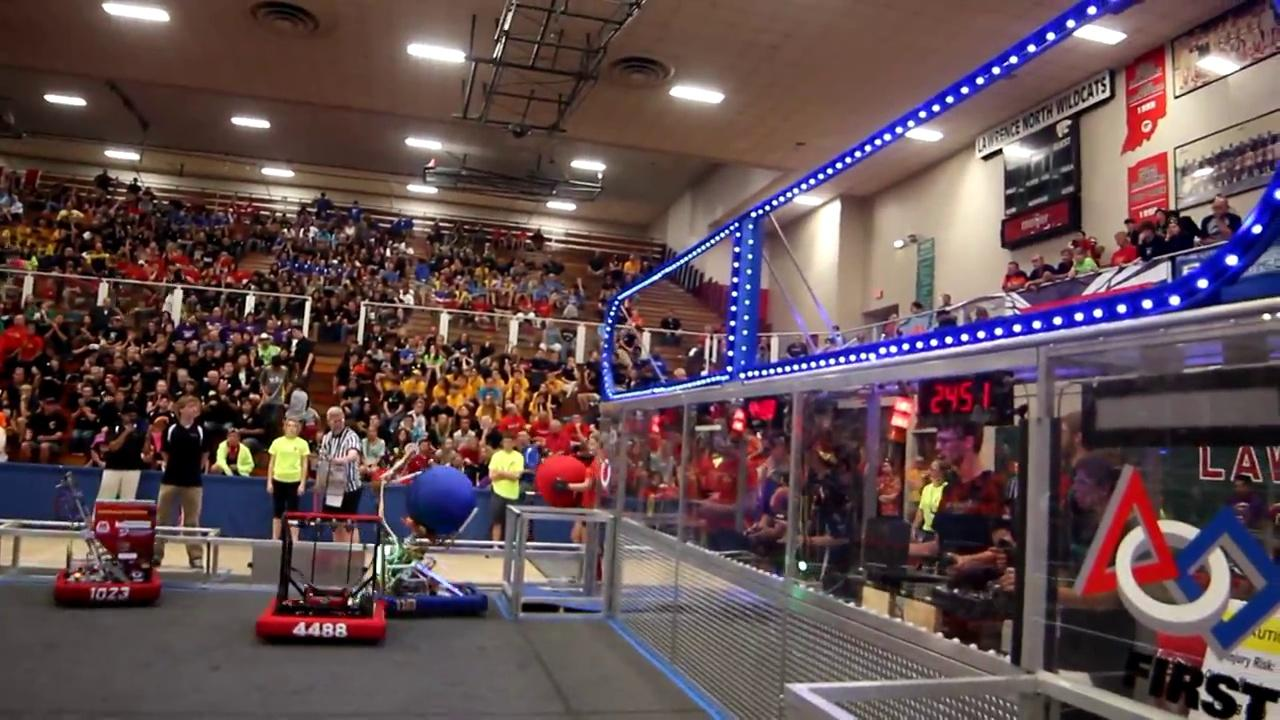robot: (366, 438, 500, 620), (40, 458, 175, 611), (252, 506, 388, 646)
